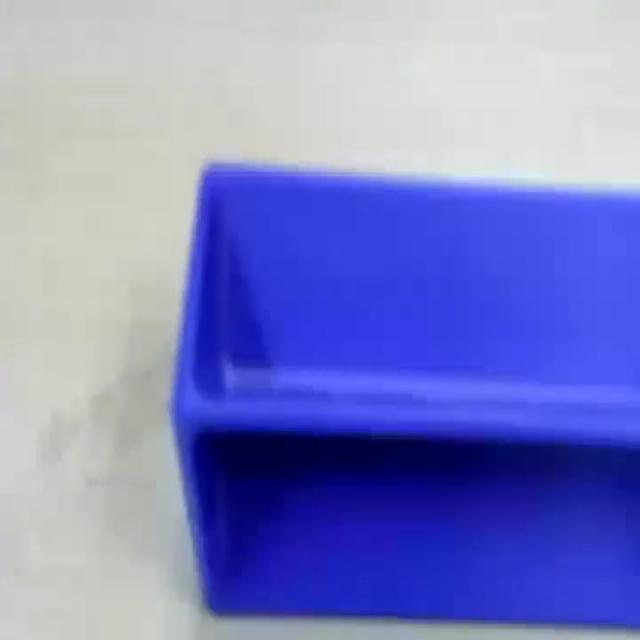blue_block: (170, 158, 638, 626)
